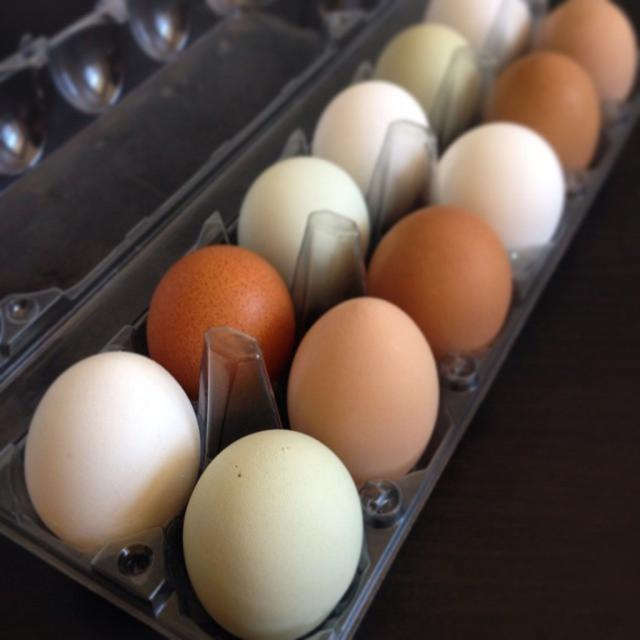Egg: (18, 0, 637, 639), (178, 424, 365, 635)
